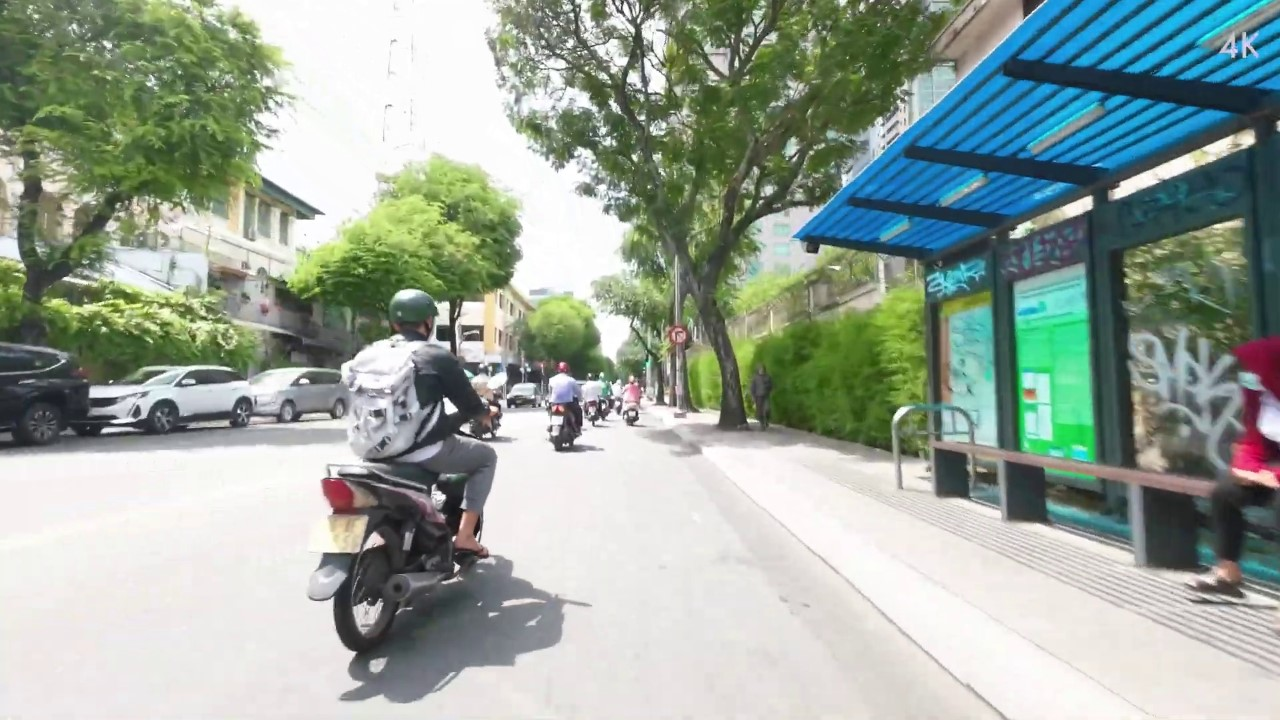cam_re_phai: (668, 325, 688, 345)
